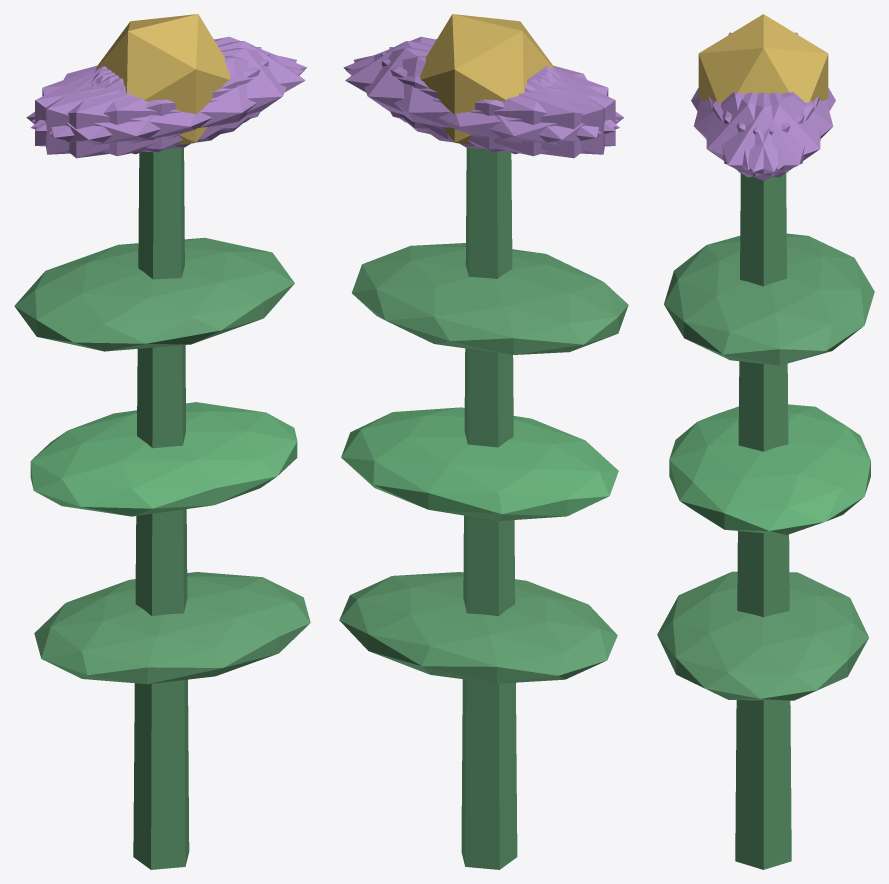
Rendered from alocasia-macrorrhizos.glb.
3 views of the same model, side by side, from view 1: azimuth 30°, elevation 25°; view 2: azimuth 150°, elevation 25°; view 3: azimuth 270°, elevation 25° (orthographic).
Visible parts, largest first — view 1: stem, leaf2, leaf0, leaf1, center, petal1, petal6, petal2, petal5, petal7, petal0, petal4 (+2 smaller); view 2: stem, leaf1, leaf2, leaf0, center, petal8, petal3, petal7, petal4, petal2, petal0, petal5 (+2 smaller); view 3: stem, leaf2, leaf0, leaf1, center, petal0, petal4, petal5, petal1, petal8.
Part boxes in pixels (x1,y1,x2,y2): stem: [133, 148, 189, 869]; leaf2: [14, 237, 294, 351]; leaf0: [34, 572, 310, 684]; leaf1: [30, 402, 297, 516]; center: [95, 14, 230, 144]; petal1: [31, 55, 304, 156]; petal6: [26, 68, 224, 158]; petal2: [45, 47, 261, 154]; petal5: [49, 48, 296, 149]; petal7: [35, 52, 269, 152]; petal0: [95, 41, 305, 139]; petal4: [32, 36, 307, 131]; stem: [461, 148, 517, 869]; leaf1: [341, 407, 618, 520]; leaf2: [352, 243, 628, 354]; leaf0: [339, 572, 617, 683]; center: [420, 14, 554, 145]; petal8: [346, 55, 619, 156]; petal3: [426, 68, 623, 158]; petal7: [389, 47, 604, 154]; petal4: [353, 48, 601, 149]; petal2: [381, 52, 615, 152]; petal0: [345, 41, 555, 139]; petal5: [343, 36, 618, 131]; stem: [735, 173, 791, 869]; leaf2: [664, 233, 874, 365]; leaf0: [657, 571, 868, 700]; leaf1: [669, 404, 870, 534]; center: [698, 14, 828, 102]; petal0: [707, 92, 819, 180]; petal4: [712, 92, 820, 177]; petal5: [706, 92, 814, 177]; petal1: [694, 92, 804, 169]; petal8: [722, 92, 832, 169].
Size of the model in its own units: 0.1452 by 0.43 by 0.1026.
